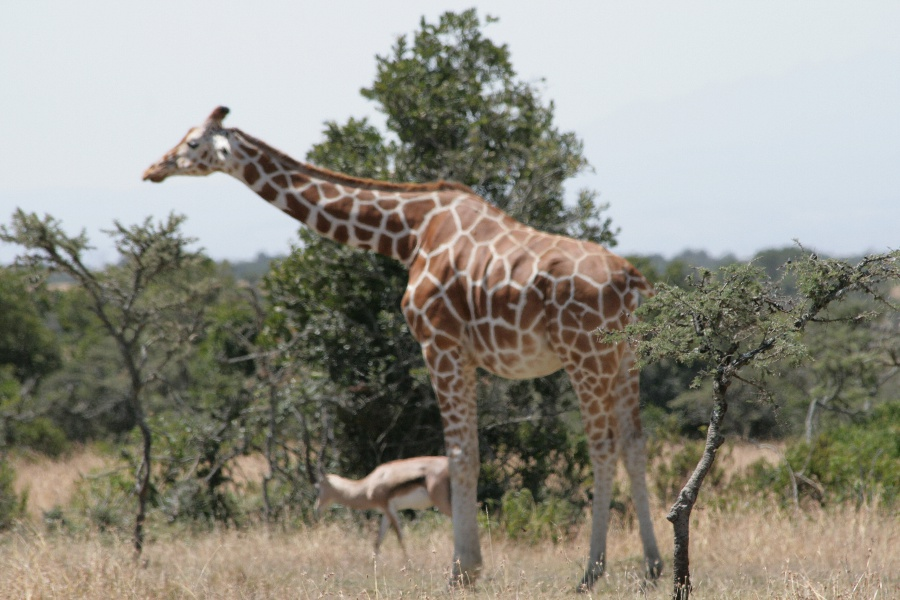giraffe: (137, 93, 680, 593)
